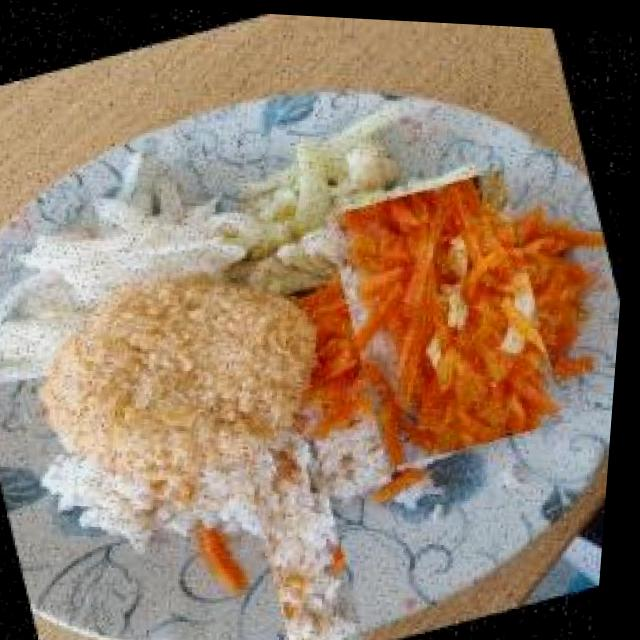carrot_eggs: (303, 168, 599, 460)
fried_chicken: (14, 227, 355, 510)
rice: (152, 340, 436, 619)
